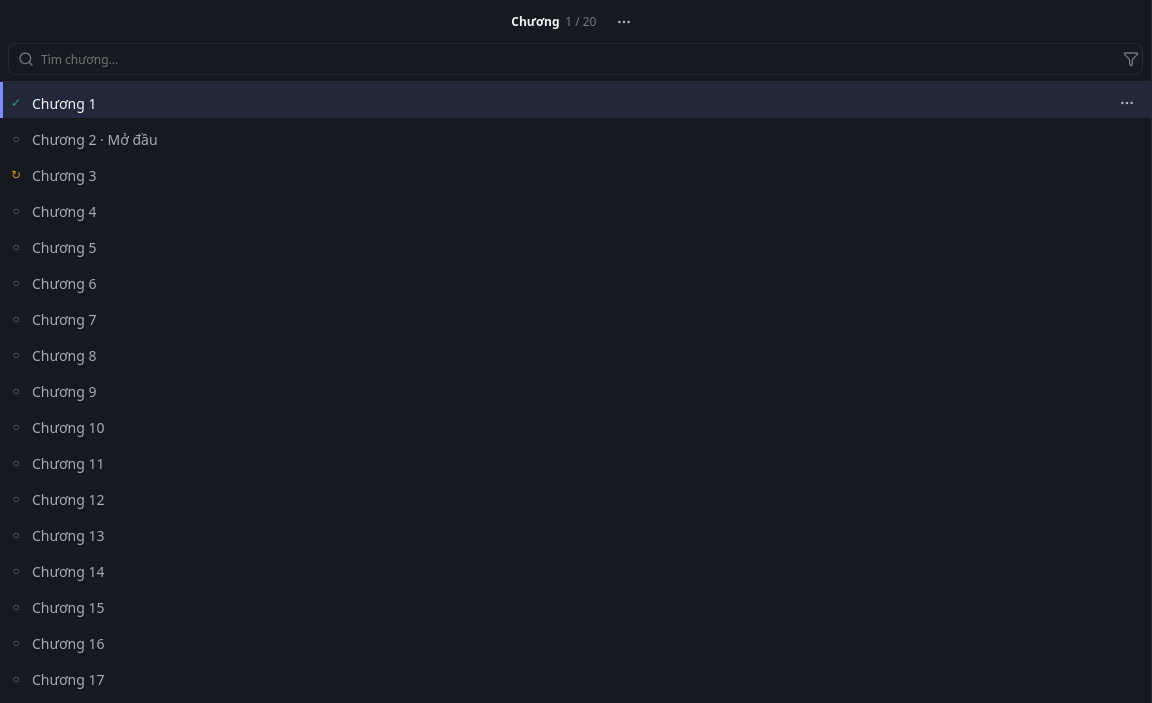
ChapterNavigator › searches by number and title
Type "Mở đầu" into the search field with placeholder "Tìm chương..." at (576, 59), box [8,43,1143,75]
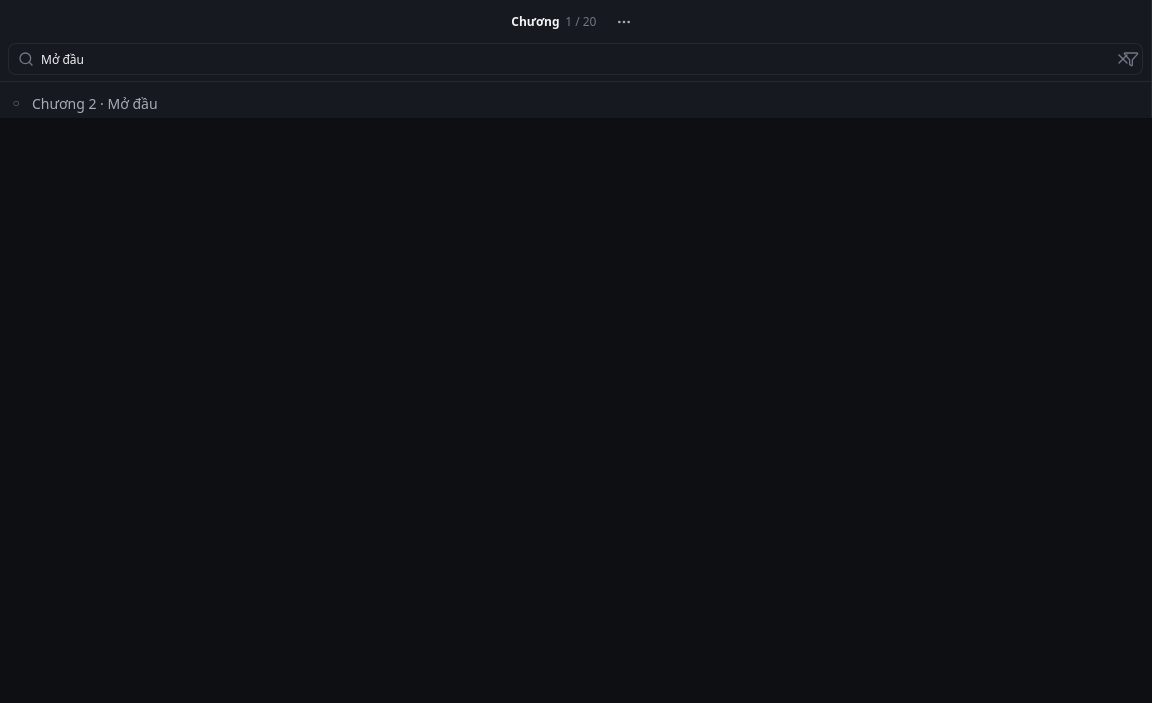
Expected: the text "Chương 2 · Mở đầu" is shown, [32,93,158,114]
Replace the text in the search field with placeholder "Tìm chương..." with "9999" at (576, 59), box [8,43,1143,75]
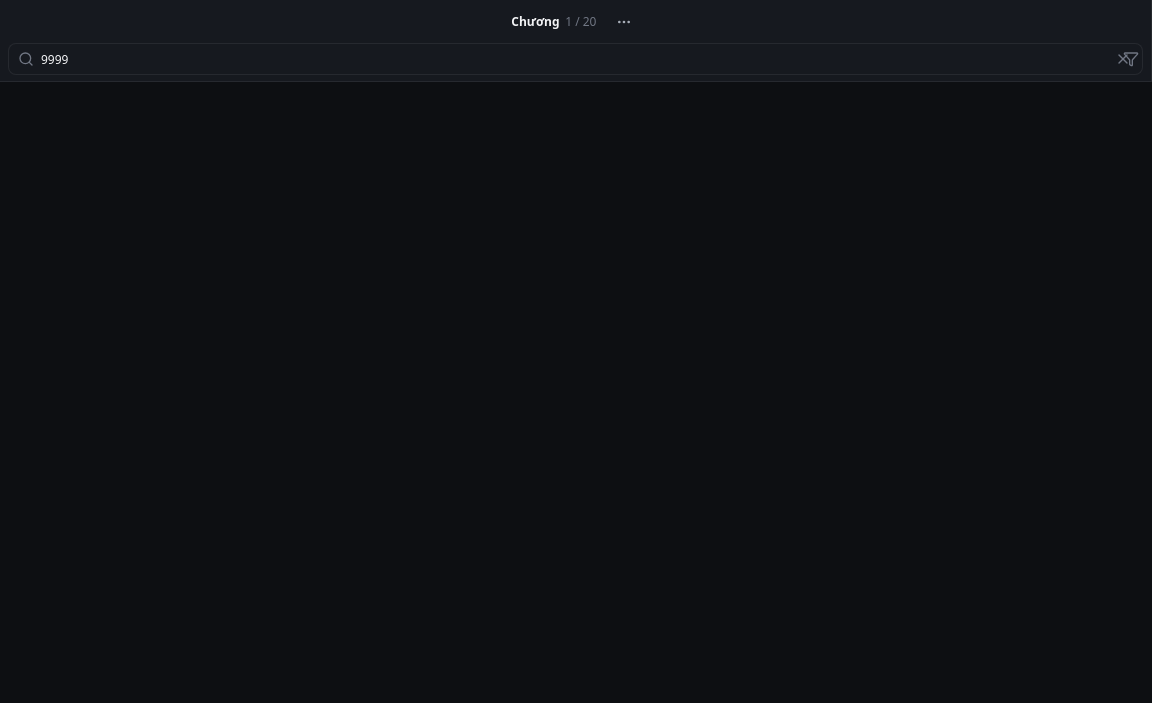
Result: the button "Mở đầu" is gone
